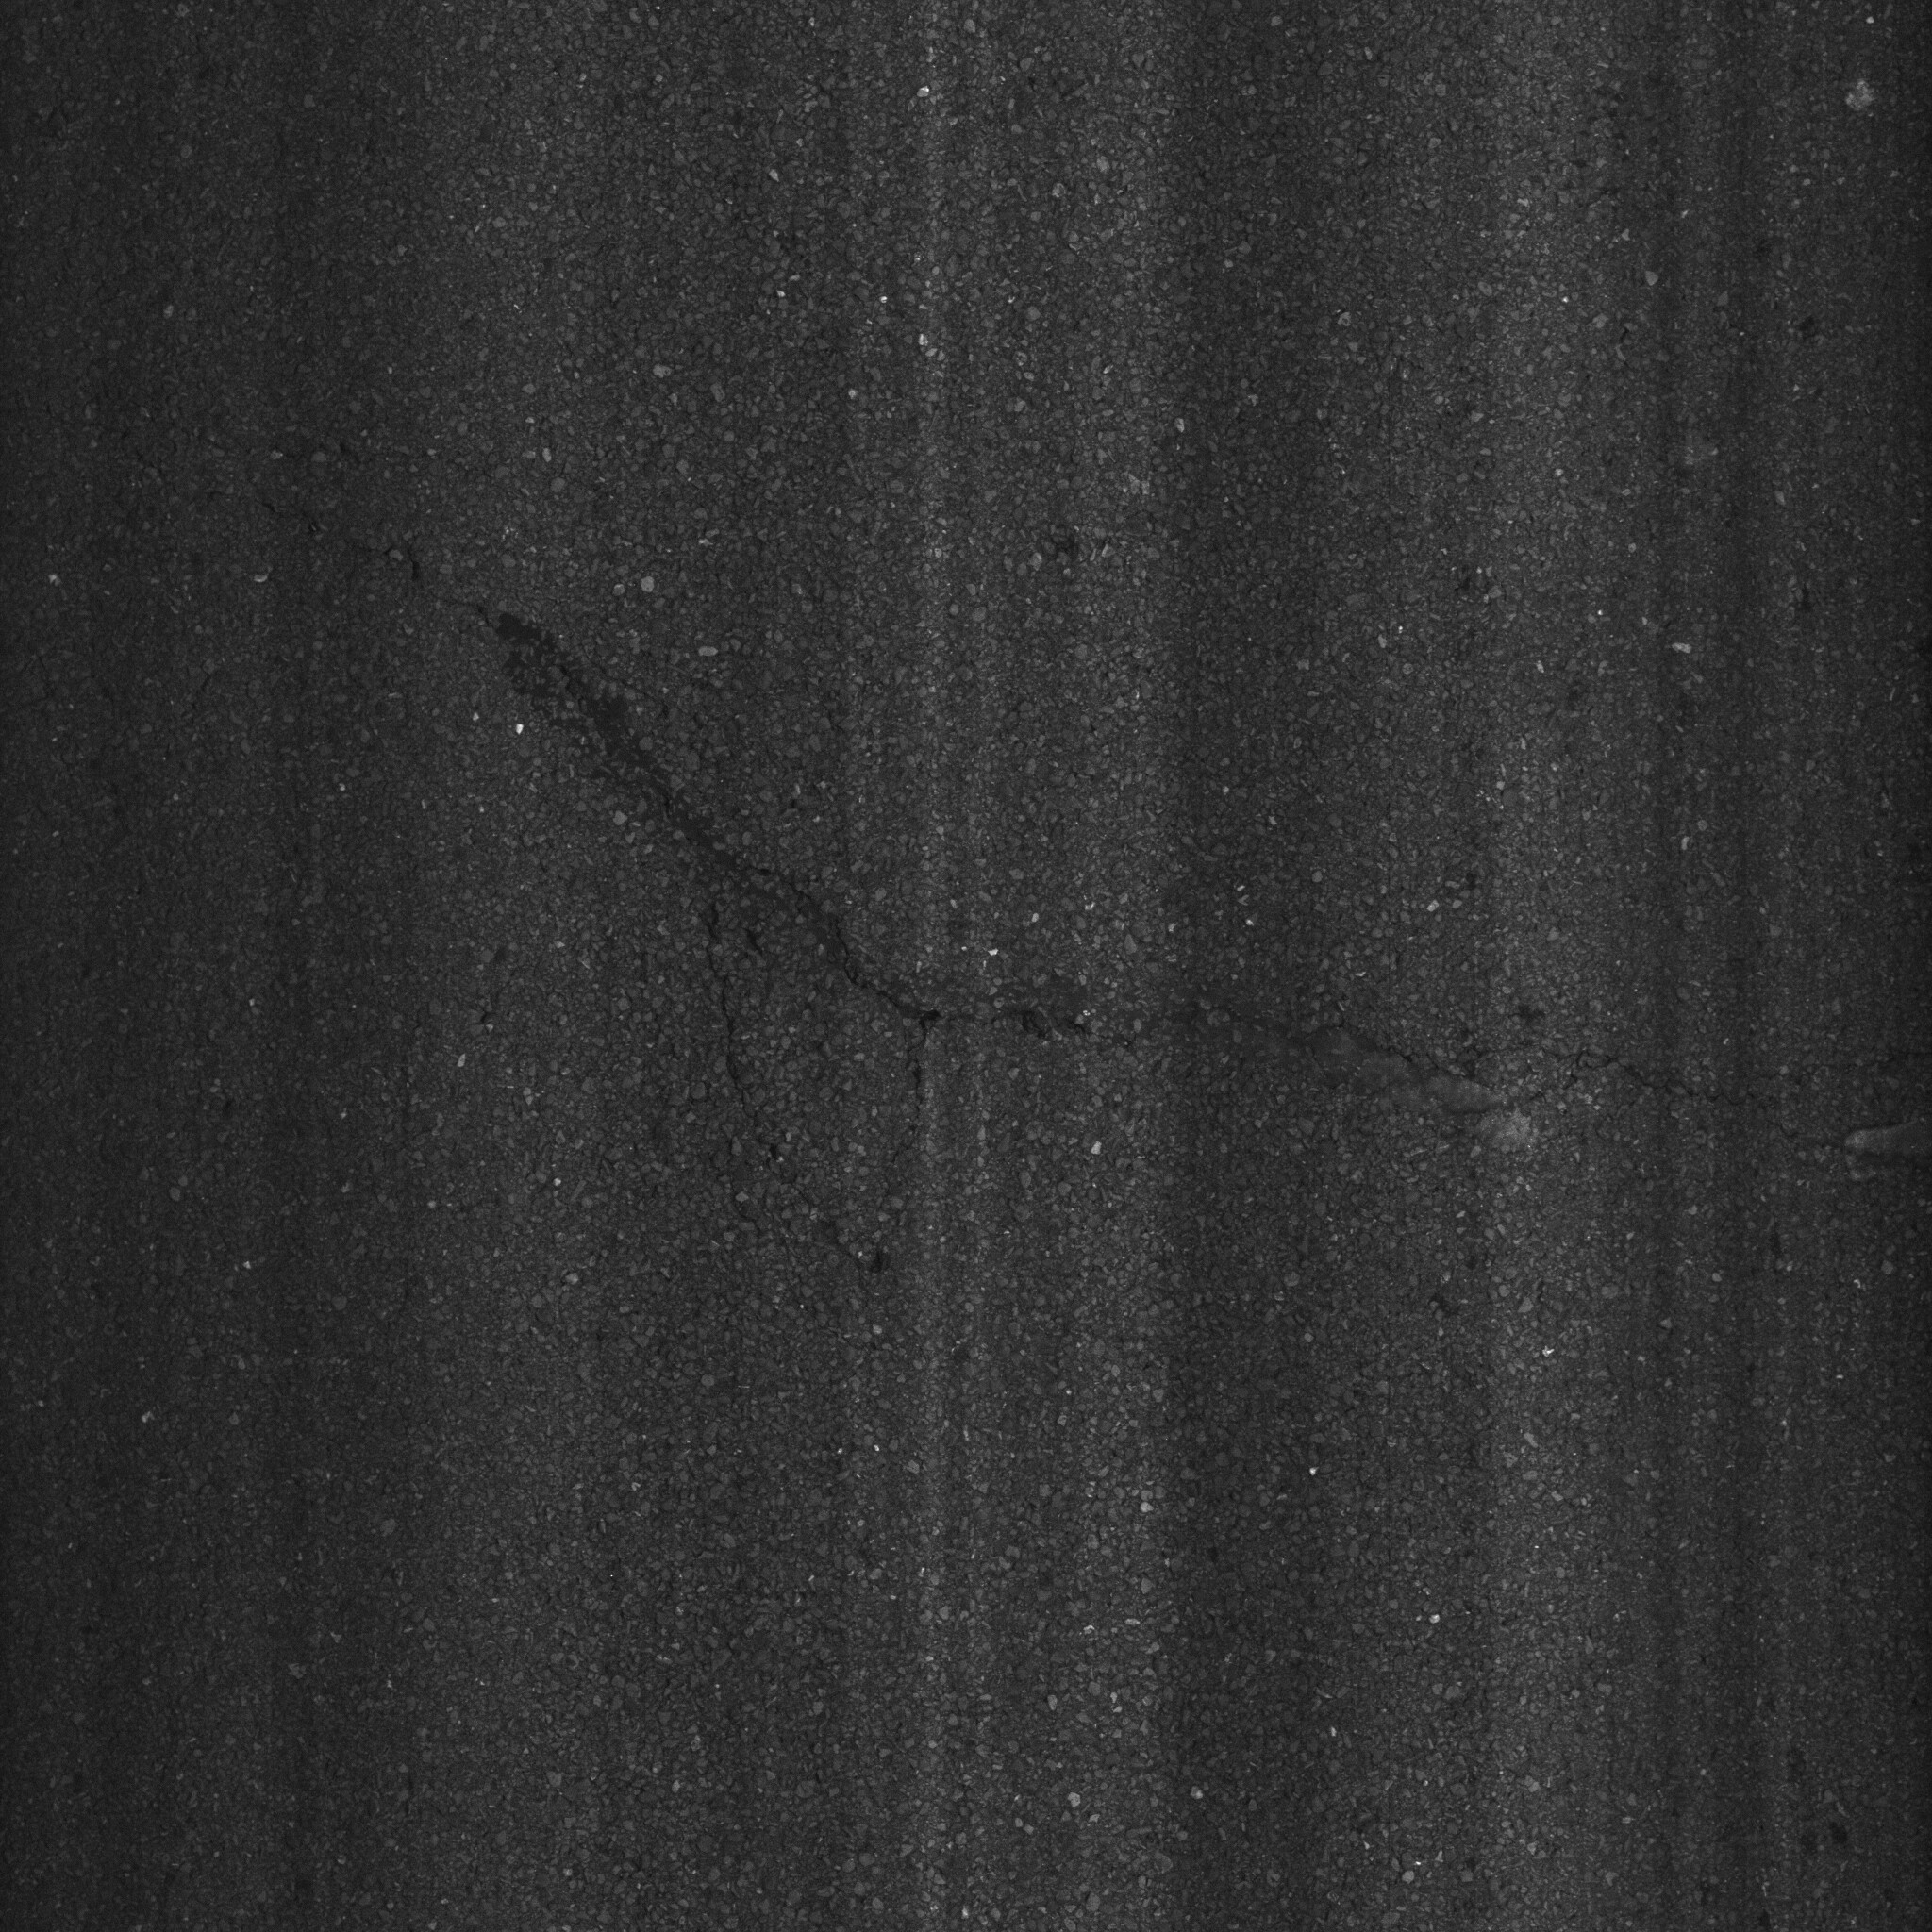transverse: (334, 513, 1858, 1200)
